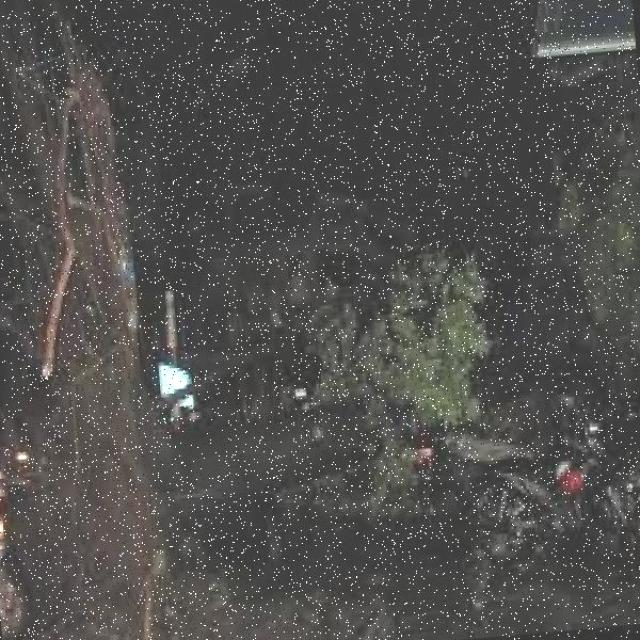fallen_object: (78, 337, 552, 517)
